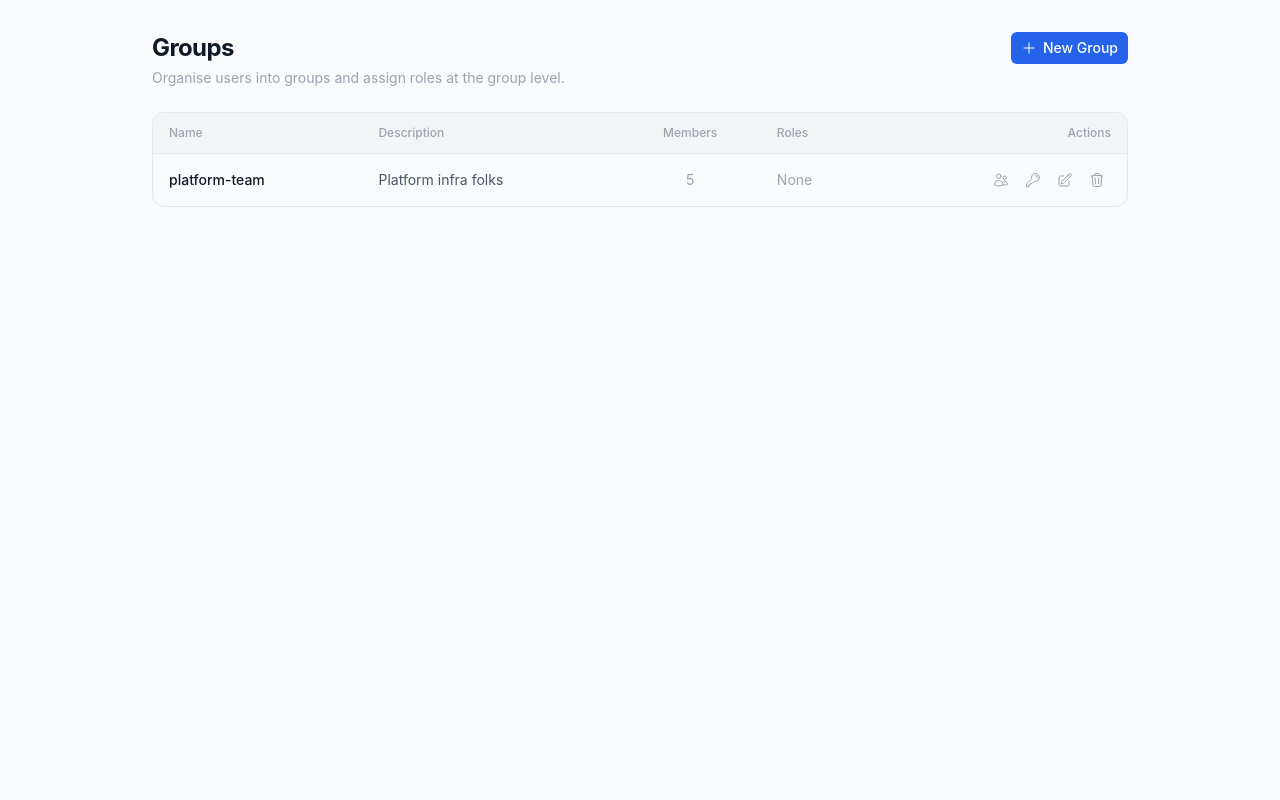
Test: GroupsPage — create group › closes the create modal via the dialog close button without submitting
The image size is (1280, 800).
Click the button "New Group" at (1069, 48), box [1011, 32, 1128, 64]
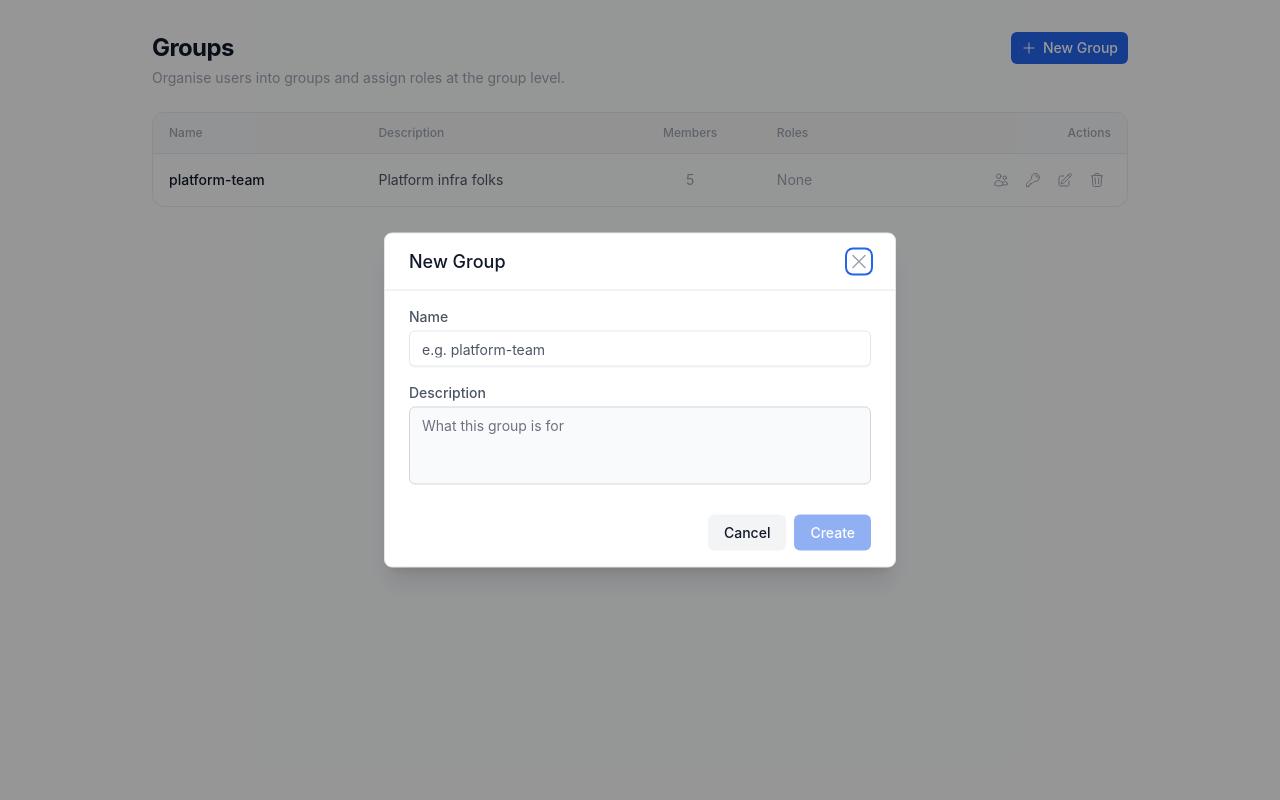
Type "draft-name" into the field labelled "Name" at (640, 348), box [409, 330, 871, 366]
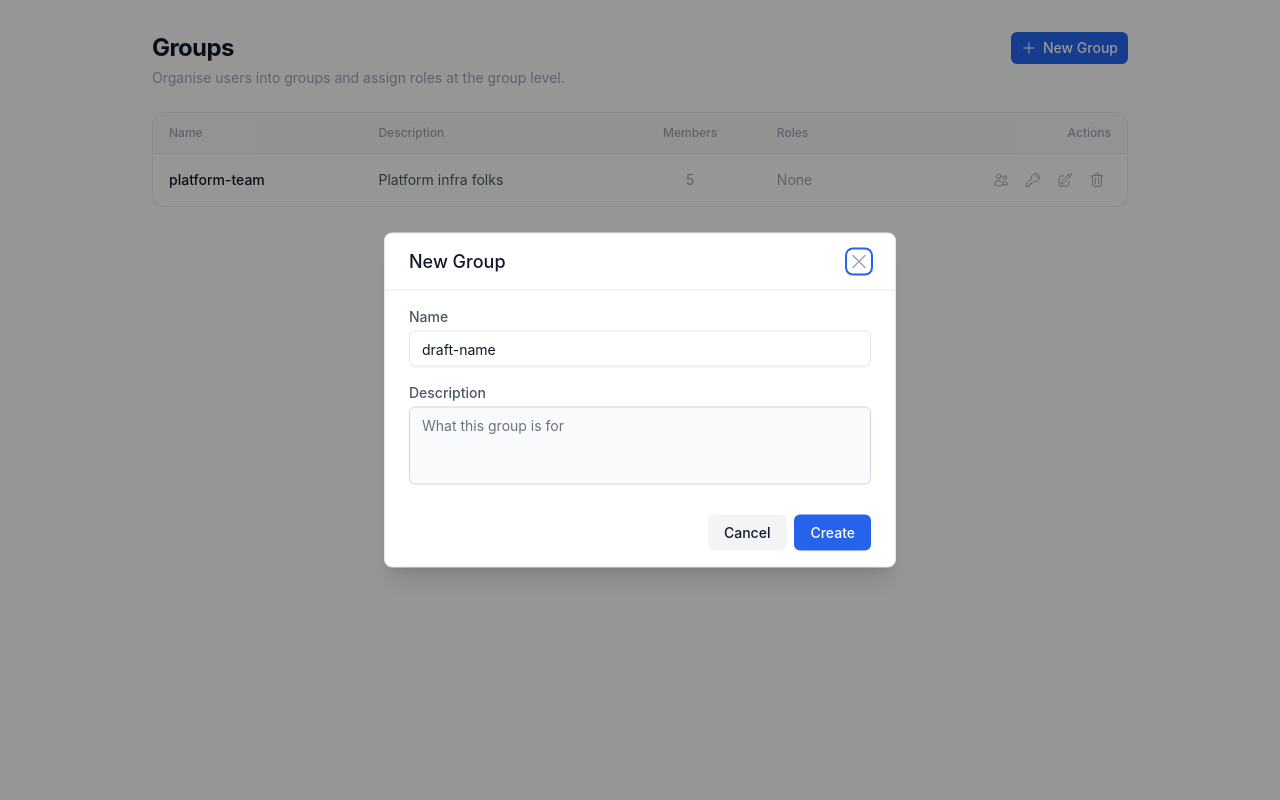
Click the button named "Close" at (859, 262), box [847, 250, 871, 274]
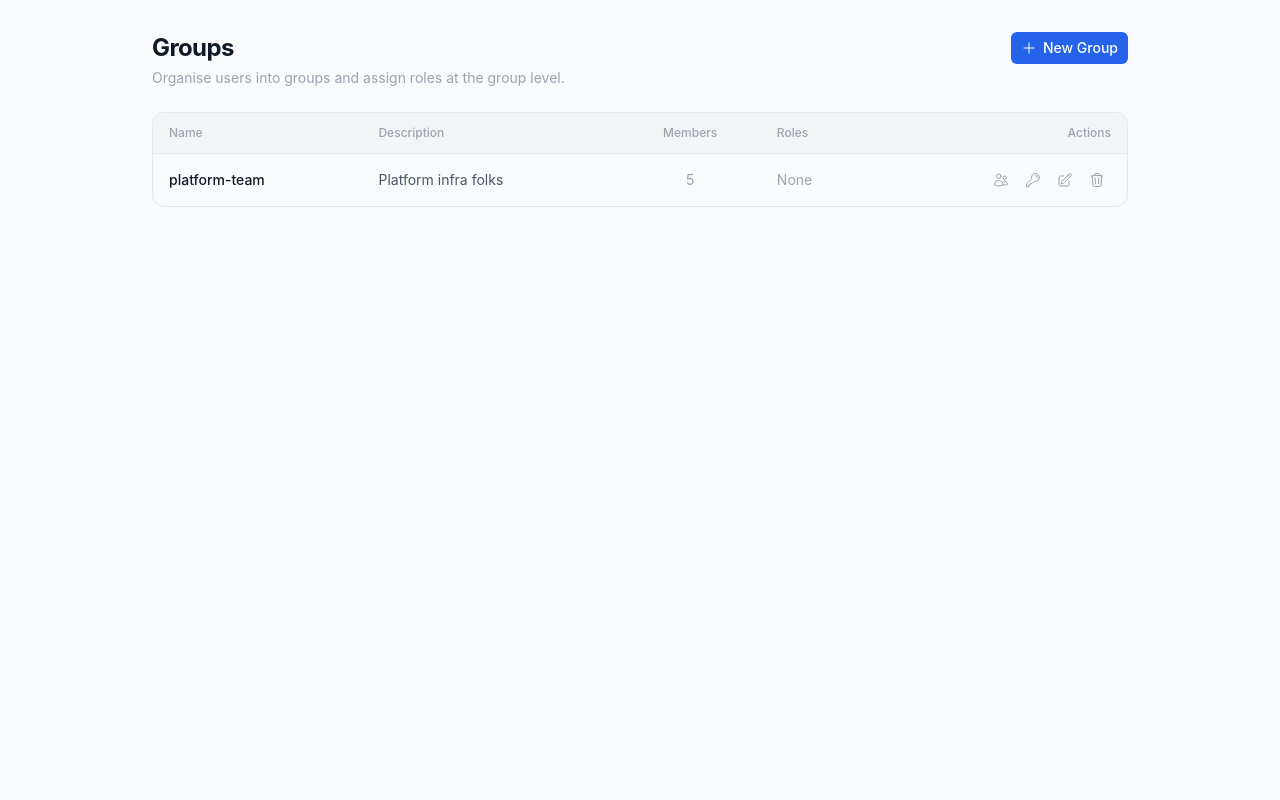
Expected: the dialog is gone
